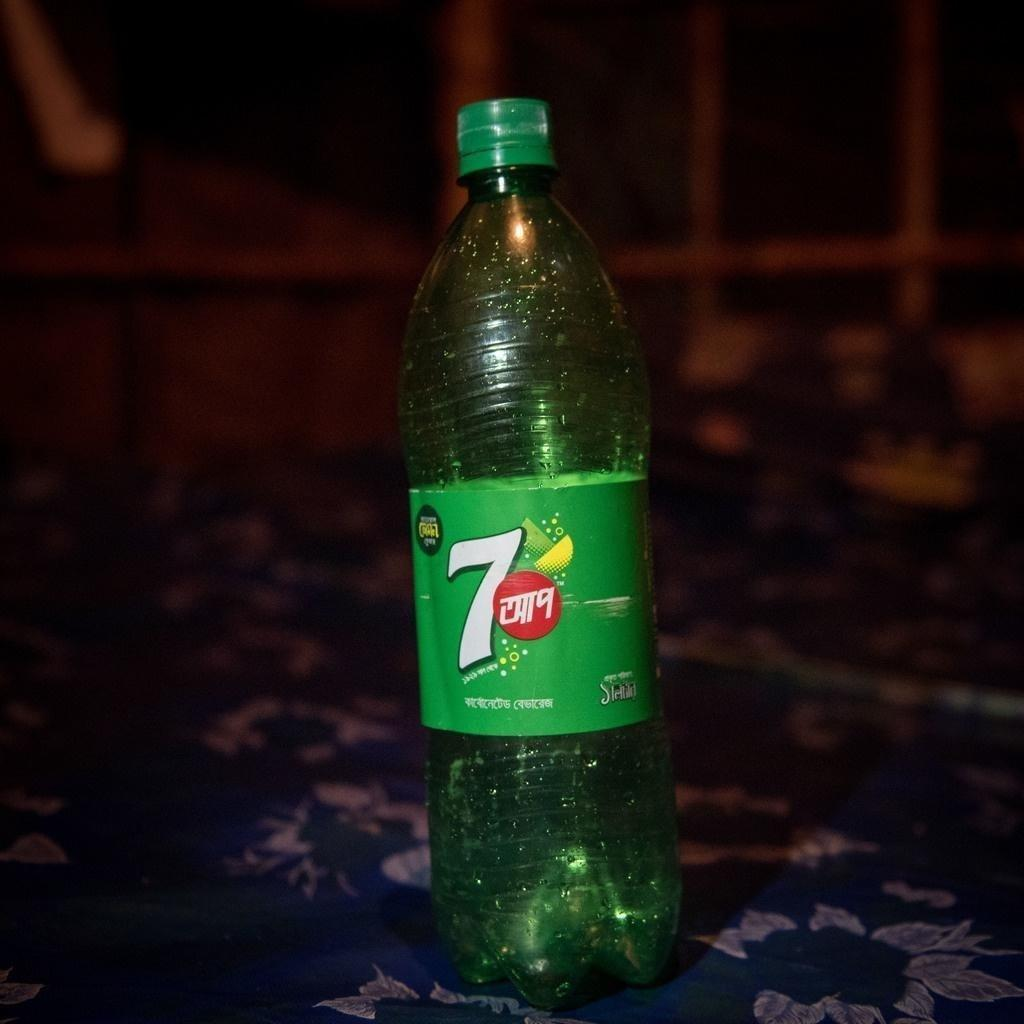bottle-plastic: (388, 88, 694, 1002)
